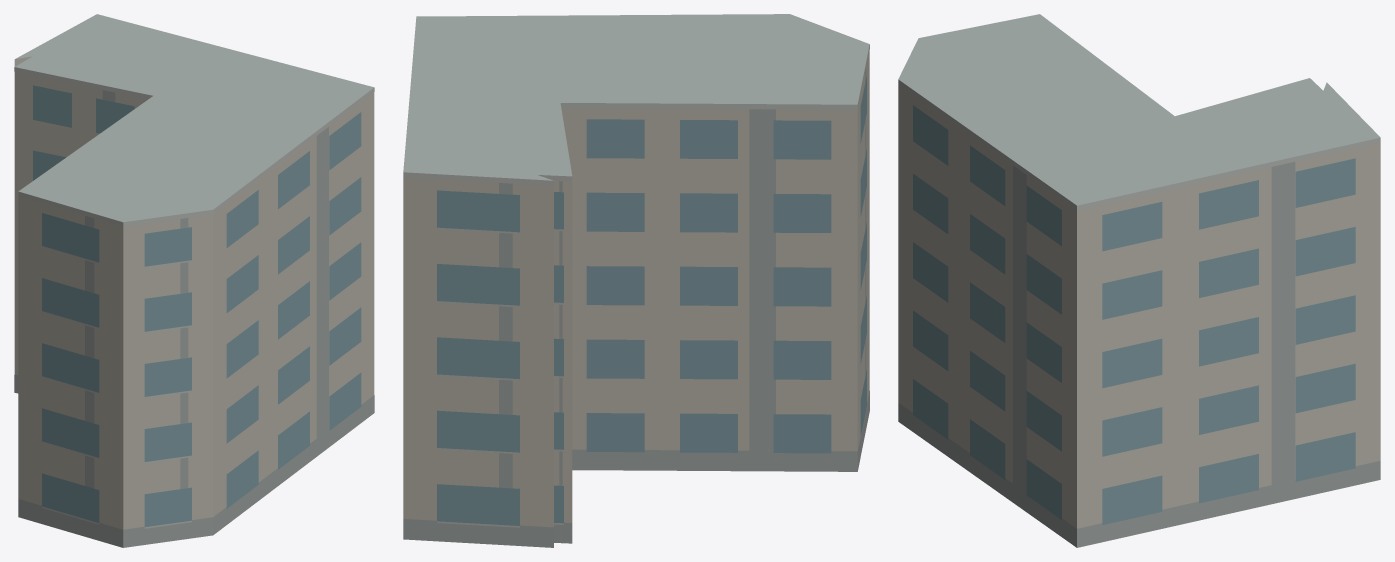
Rendered from survey-upis-32835889.glb.
The picture shows the model from 3 angles, left to right: view 1: azimuth 30°, elevation 25°; view 2: azimuth 150°, elevation 25°; view 3: azimuth 270°, elevation 25°; orthographic projection. The views are drawn at different scales.
Visible parts, largest first — view 1: survey-upis-32835889.tmp; view 2: survey-upis-32835889.tmp; view 3: survey-upis-32835889.tmp.
Boxes of the visible parts, x1,y1,x2,y2 form: survey-upis-32835889.tmp: (14,14,374,547); survey-upis-32835889.tmp: (403,14,869,547); survey-upis-32835889.tmp: (898,14,1380,547).
Size of the model in its own units: 20.3 by 16.89 by 21.59.
